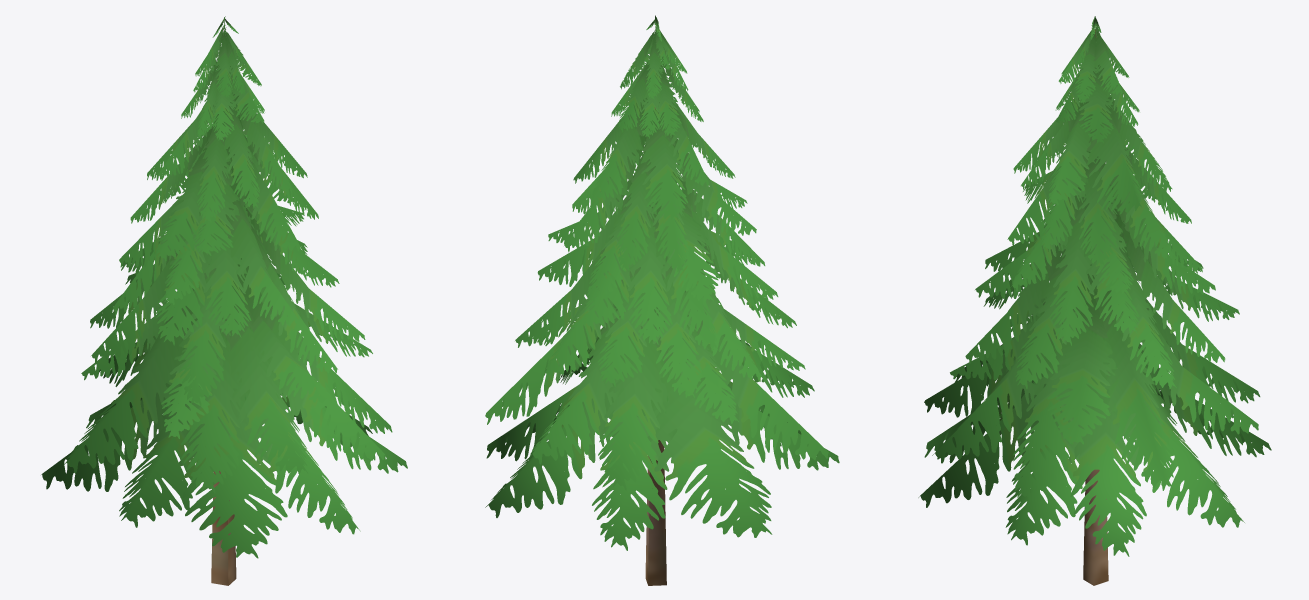
File: Pine Tree.fbx
3 renders of one model, left to right at view 1: azimuth 30°, elevation 25°; view 2: azimuth 150°, elevation 25°; view 3: azimuth 270°, elevation 25°, orthographic.
Visible parts, largest first — view 1: Pine_Tree; view 2: Pine_Tree; view 3: Pine_Tree.
Boxes of the visible parts, x1,y1,x2,y2 form: Pine_Tree: (41, 16, 407, 585); Pine_Tree: (485, 15, 839, 585); Pine_Tree: (918, 16, 1271, 585).
Bounding box in the file's own units: 333 × 493 × 316.
